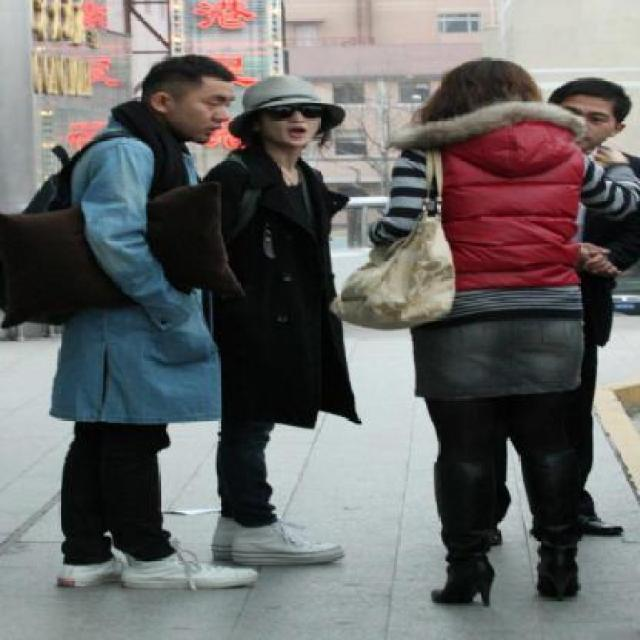Person: (394, 52, 583, 638), (41, 54, 234, 581), (229, 62, 357, 581)
